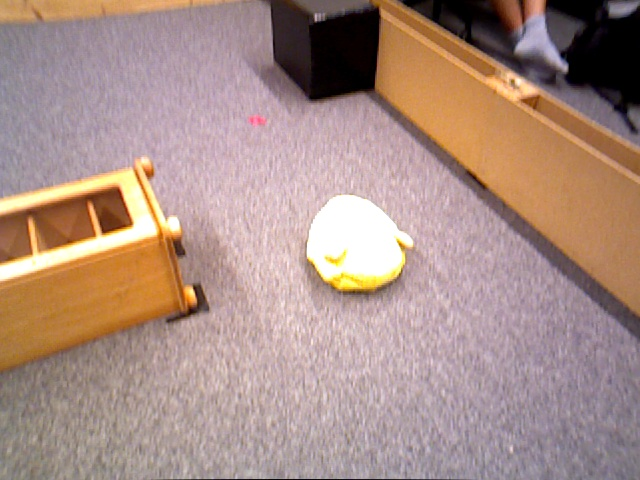grasp: (305, 193, 406, 295)
push: (271, 1, 380, 104)
